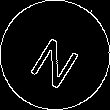N_NE: (25, 23, 85, 87)
